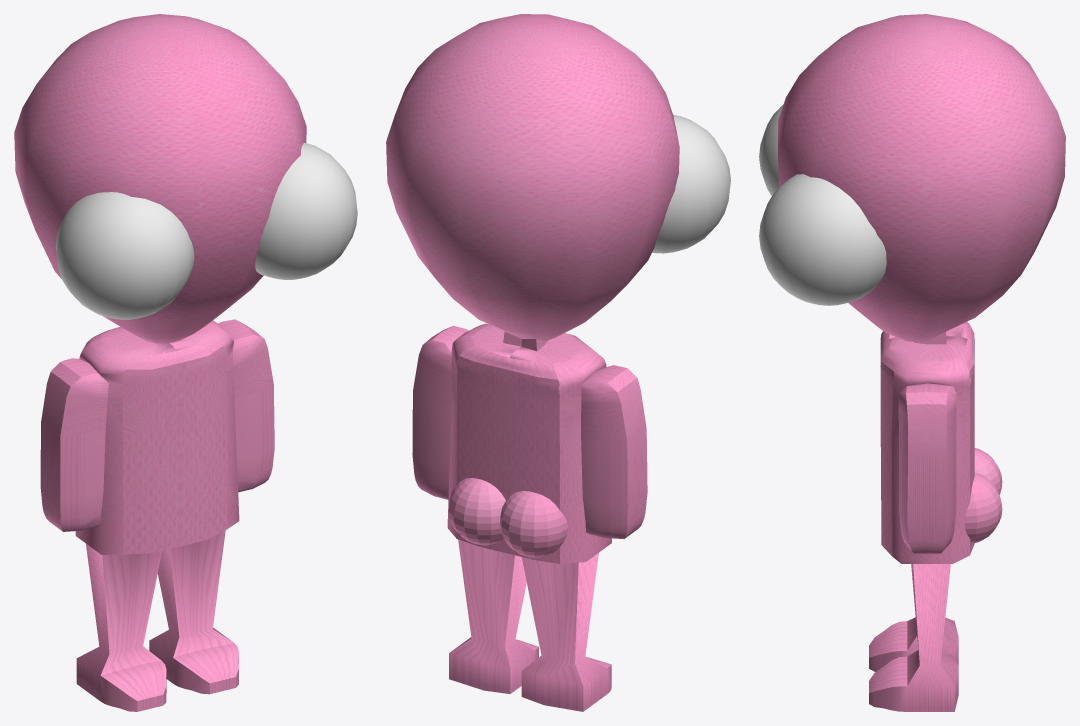
Rendered from alien4.fbx.
The picture shows the model from 3 angles, left to right: view 1: azimuth 30°, elevation 25°; view 2: azimuth 150°, elevation 25°; view 3: azimuth 270°, elevation 25°; orthographic projection.
Visible parts, largest first — view 1: Cube, Sphere.001; view 2: Cube, Sphere.001; view 3: Cube, Sphere.001.
Part boxes in pixels (x1,y1,x2,y2): Cube: [14, 14, 306, 711]; Sphere.001: [56, 142, 357, 319]; Cube: [386, 14, 679, 711]; Sphere.001: [652, 114, 730, 253]; Cube: [778, 14, 1065, 711]; Sphere.001: [759, 104, 886, 305].
Bounding box in the file's own units: 153 × 335 × 143.
1 material, 1 textured.
